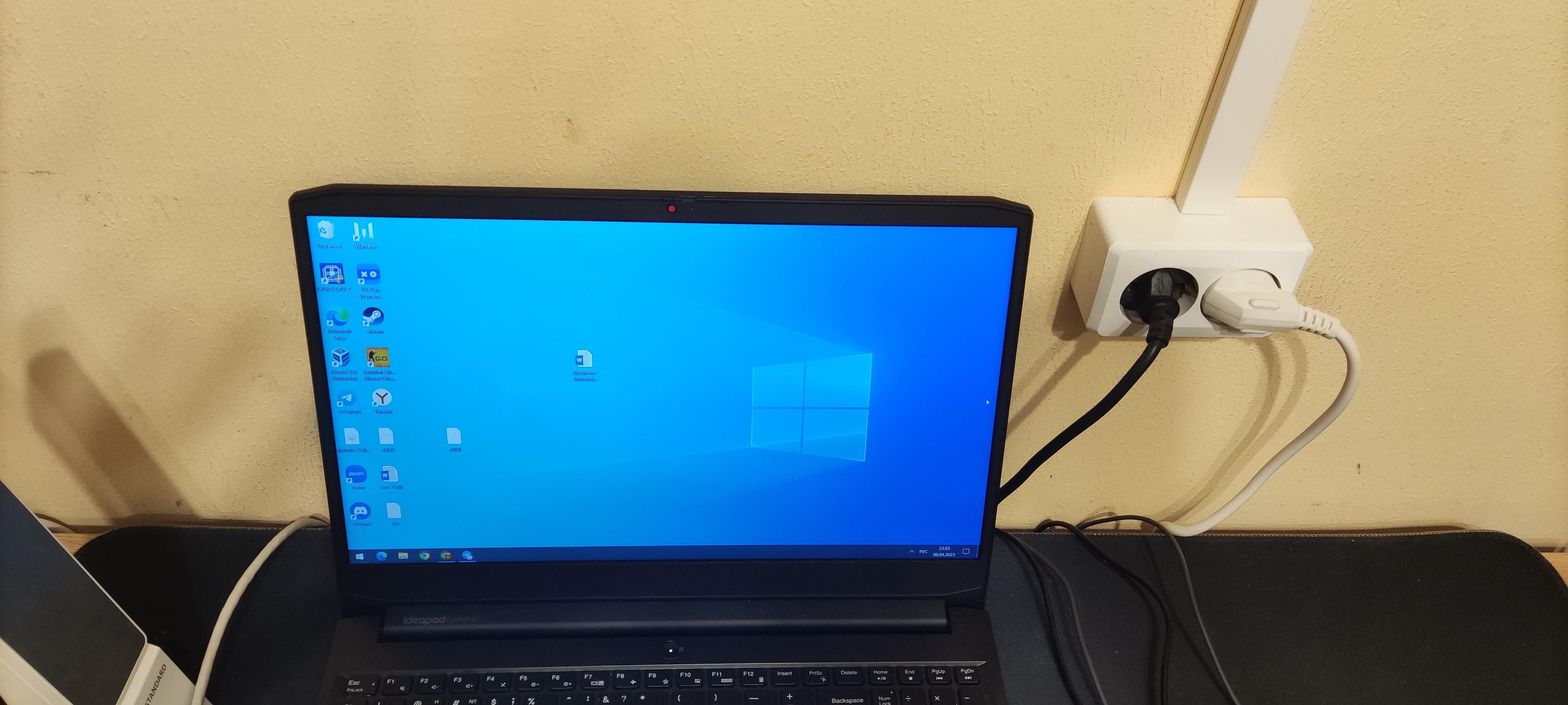monitor: (284, 176, 1039, 615)
